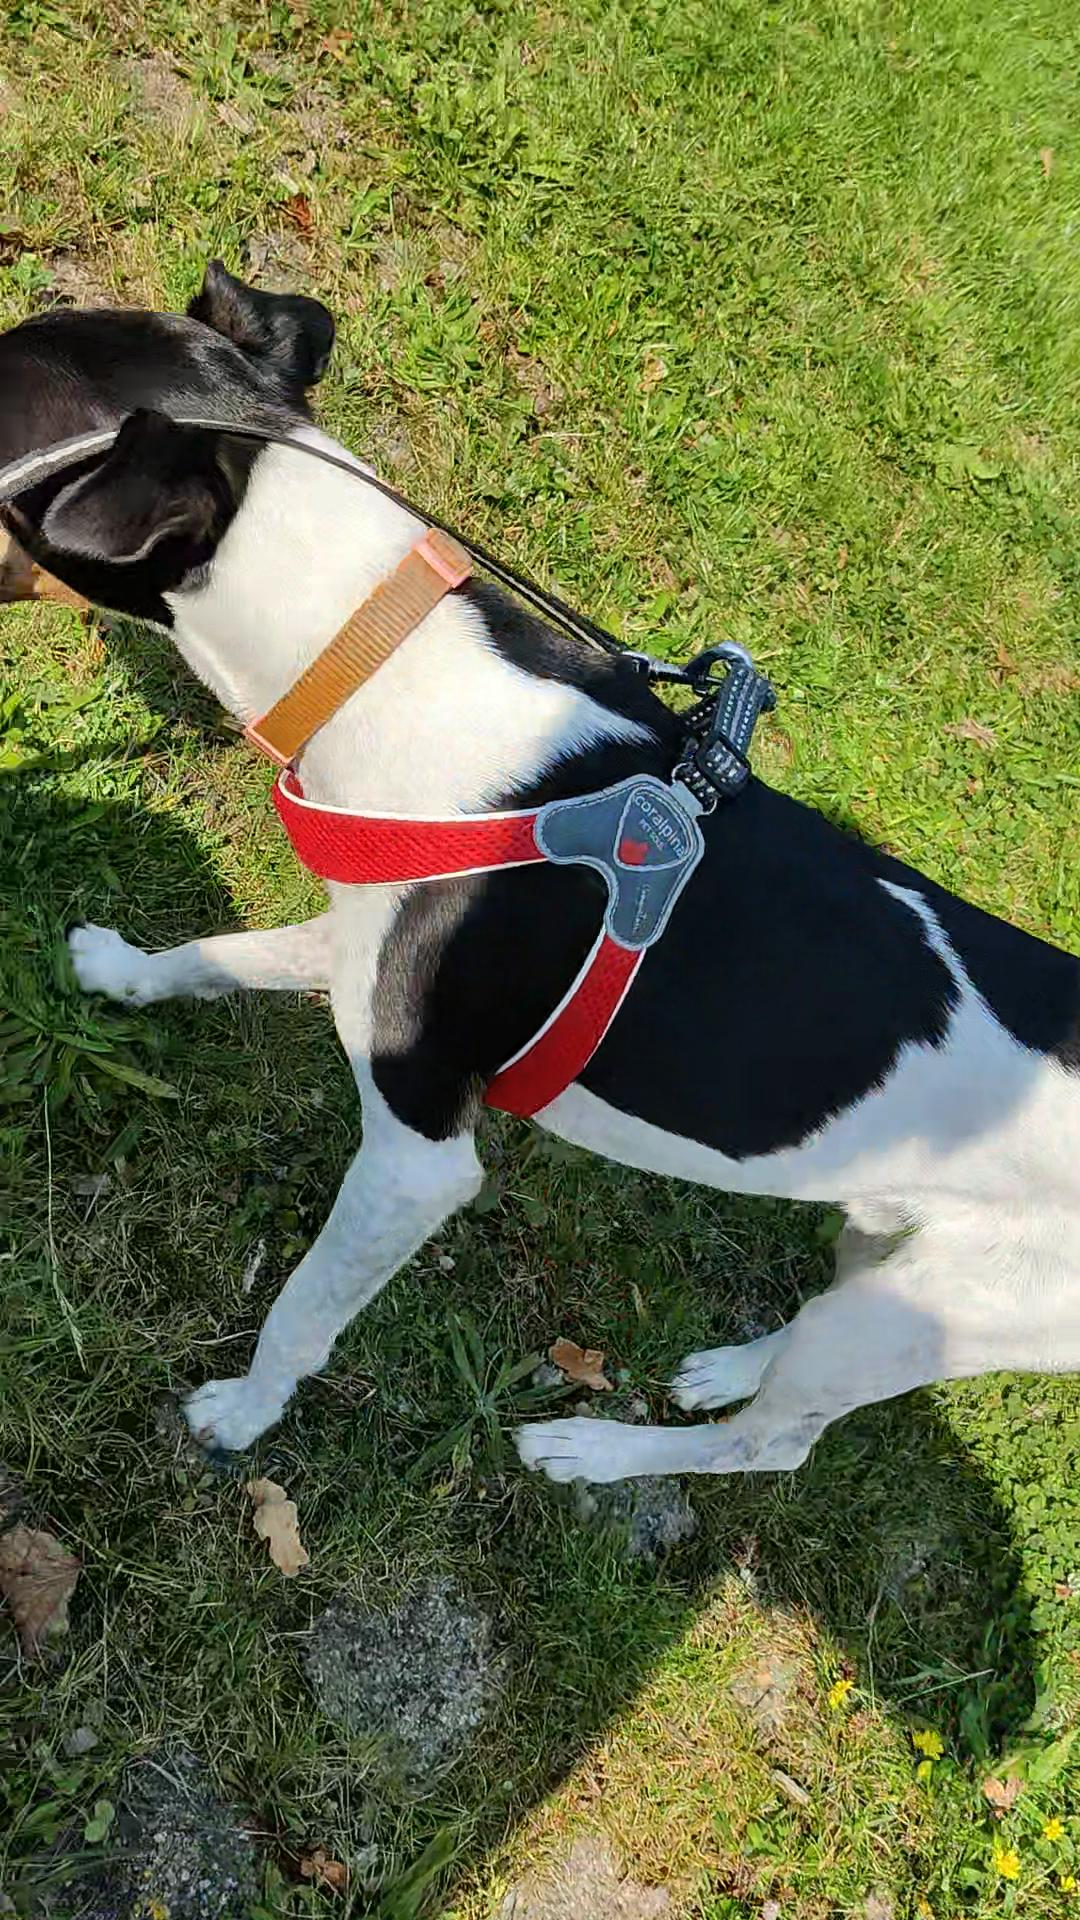Dog: (0, 251, 1079, 1485)
